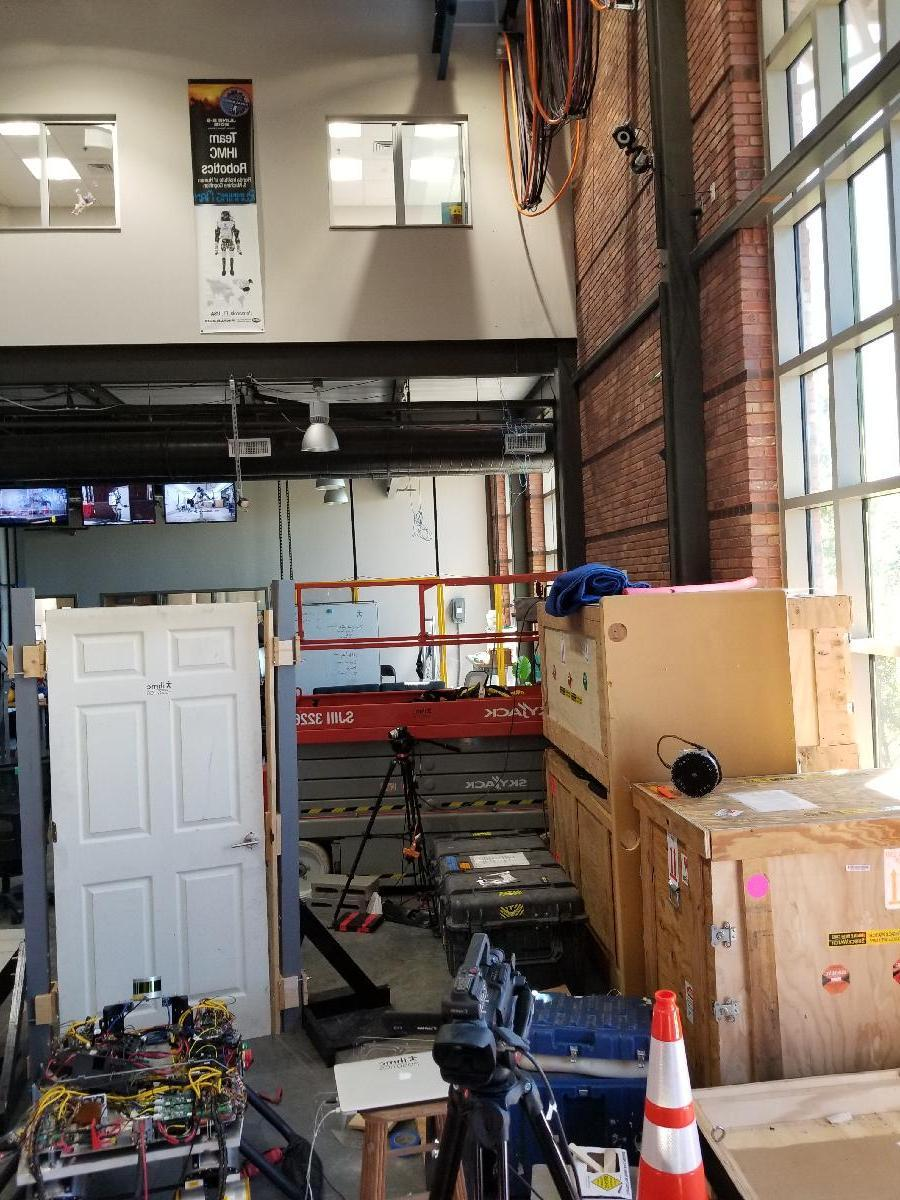door: (59, 598, 254, 1053)
handle: (228, 830, 260, 856)
